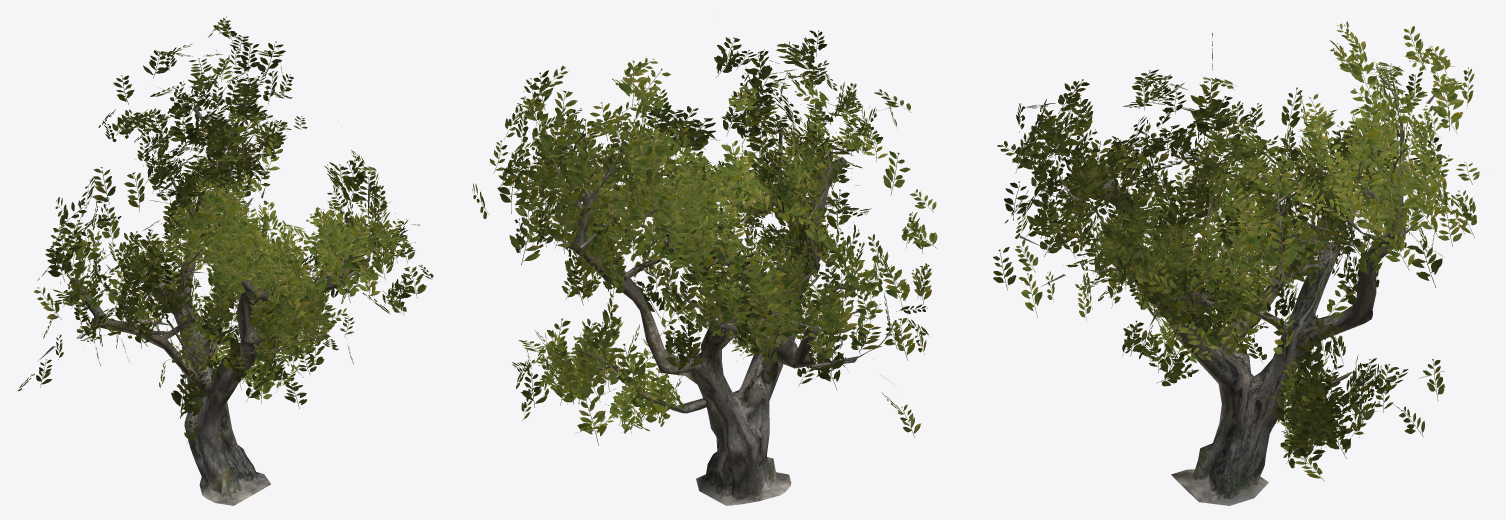
File: arbol_isla1_lod0.glb
3 renders of one model, left to right at view 1: azimuth 30°, elevation 25°; view 2: azimuth 150°, elevation 25°; view 3: azimuth 270°, elevation 25°, orthographic. The views are drawn at different scales.
Visible parts, largest first — view 1: island_tree_01_LOD0; view 2: island_tree_01_LOD0; view 3: island_tree_01_LOD0.
Boxes of the visible parts, <box> form: island_tree_01_LOD0: <box>18,16,433,505</box>; island_tree_01_LOD0: <box>472,30,937,505</box>; island_tree_01_LOD0: <box>993,21,1479,505</box>.
Size of the model in its own units: 8.51 by 8.5 by 8.25.
3 materials, 3 textured.
